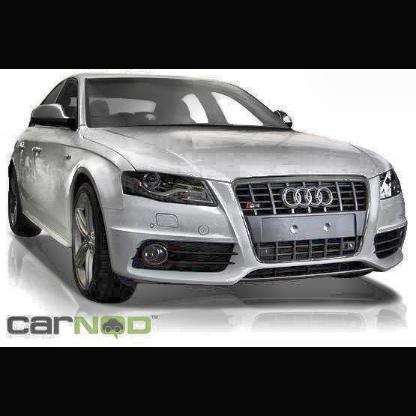Audi S4 Sedan 2012: (9, 72, 410, 304)
